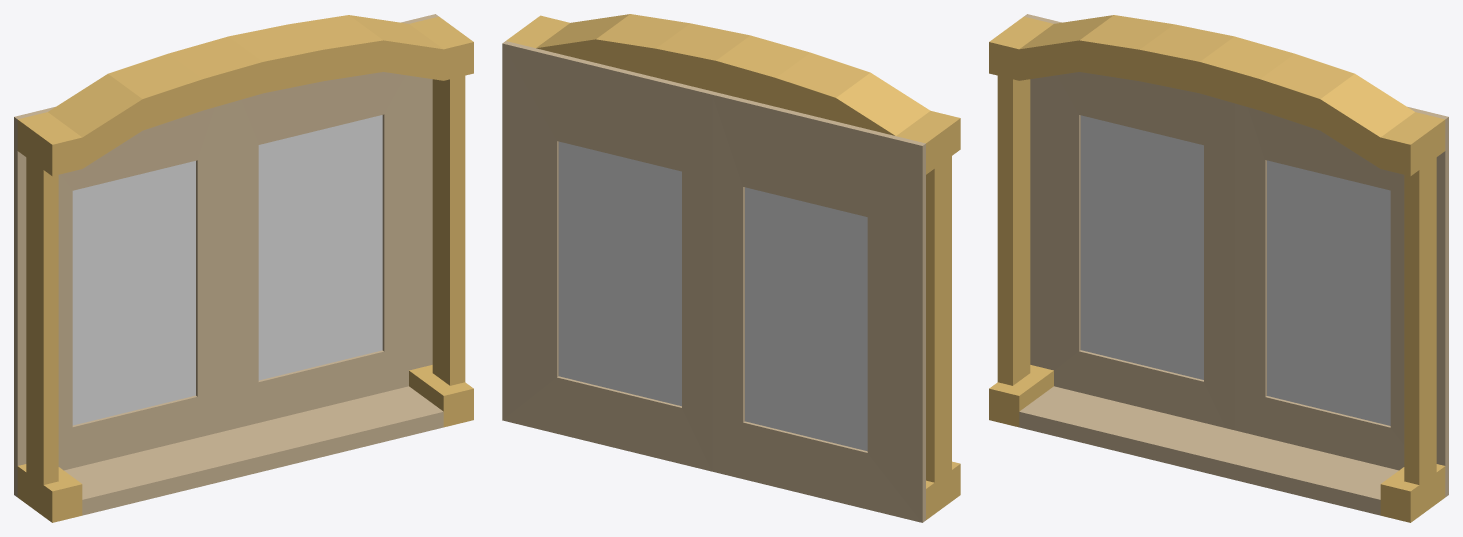
Rendered from Wall windows.fbx.
3 renders of one model, left to right at view 1: azimuth 30°, elevation 25°; view 2: azimuth 150°, elevation 25°; view 3: azimuth 330°, elevation 25°, orthographic.
Visible parts, largest first — view 1: Wall windows; view 2: Wall windows; view 3: Wall windows.
Boxes of the visible parts, box(x1,y1,x2,y2) form: Wall windows: box(14, 14, 473, 522); Wall windows: box(502, 14, 960, 522); Wall windows: box(989, 14, 1448, 522).
Bounding box in the file's own units: 1400 × 1300 × 220.
